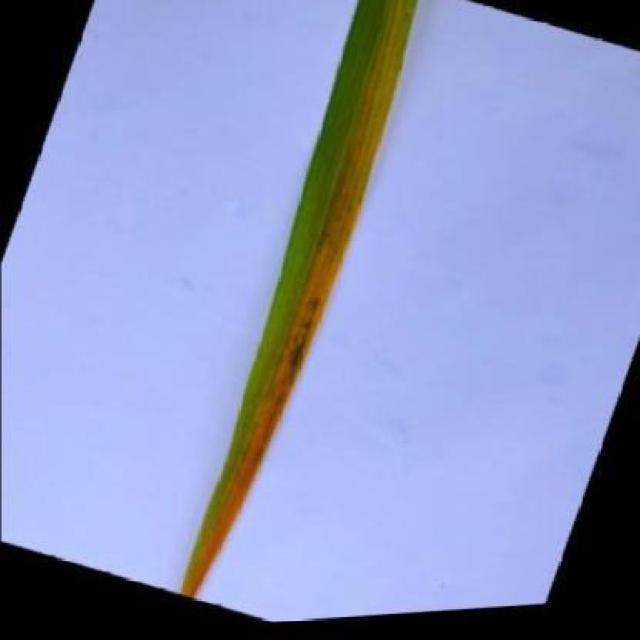Rice False Smut: (149, 0, 437, 614)
